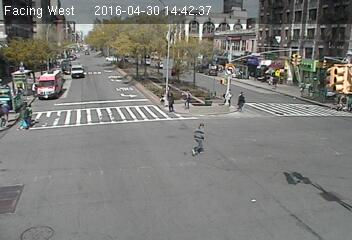neg: (277, 154, 314, 203), (308, 56, 338, 97), (80, 103, 108, 142), (144, 35, 172, 72), (71, 154, 97, 188), (11, 56, 35, 88), (10, 173, 33, 205), (108, 34, 130, 63), (65, 47, 83, 71), (259, 34, 273, 53)
pos: (186, 120, 212, 156), (20, 102, 38, 127), (235, 88, 251, 110), (163, 90, 179, 112), (180, 86, 195, 107)
